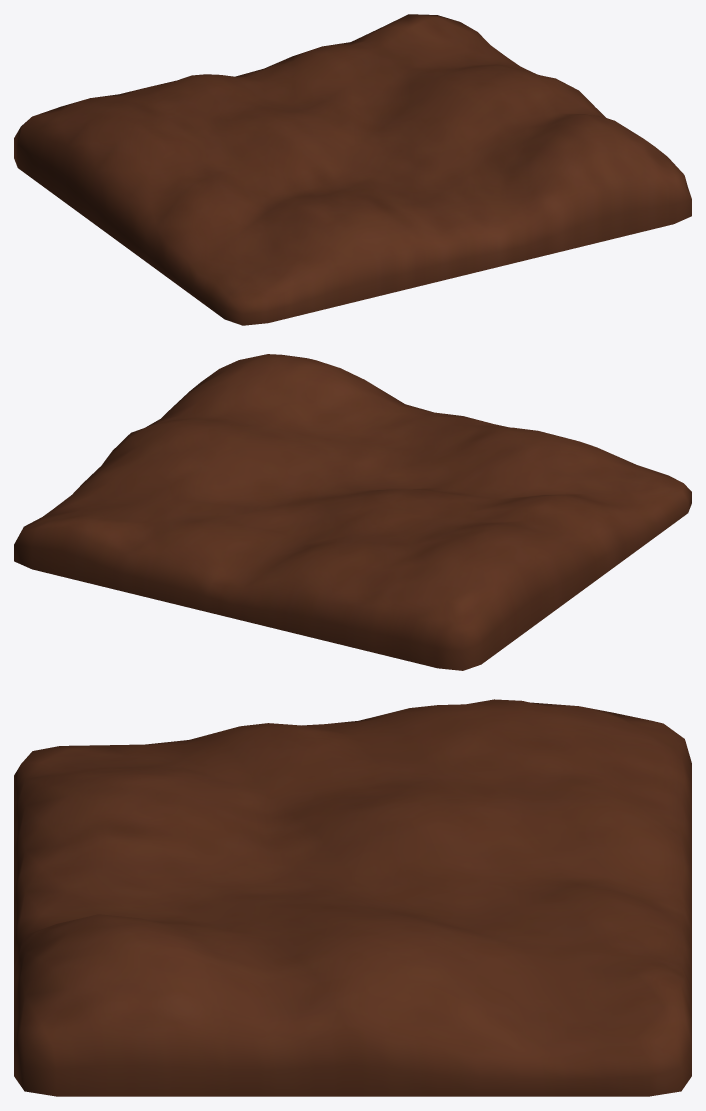
File: Soil One.fbx
3 views of the same model, one above another, from view 1: azimuth 30°, elevation 25°; view 2: azimuth 150°, elevation 25°; view 3: azimuth 270°, elevation 25° (orthographic). The views are drawn at different scales.
Parts seen in each view (by area): view 1: One1; view 2: One1; view 3: One1.
Boxes of the visible parts, x1,y1,x2,y2 form: One1: (14, 14, 691, 325); One1: (14, 354, 691, 670); One1: (14, 699, 691, 1096).
Bounding box in the file's own units: 8.96 × 1.43 × 7.91.
